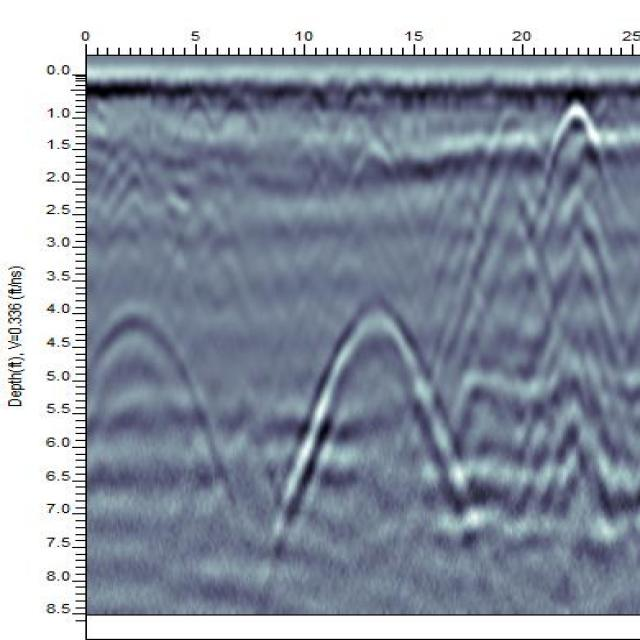hyperbola: (282, 297, 466, 547), (530, 89, 624, 218)
